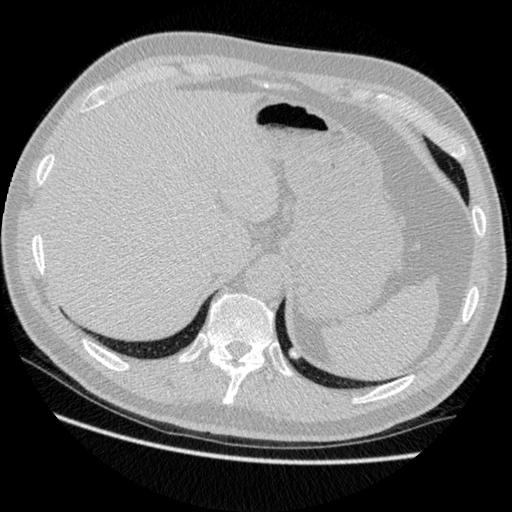nodule: (284, 346, 302, 364)
